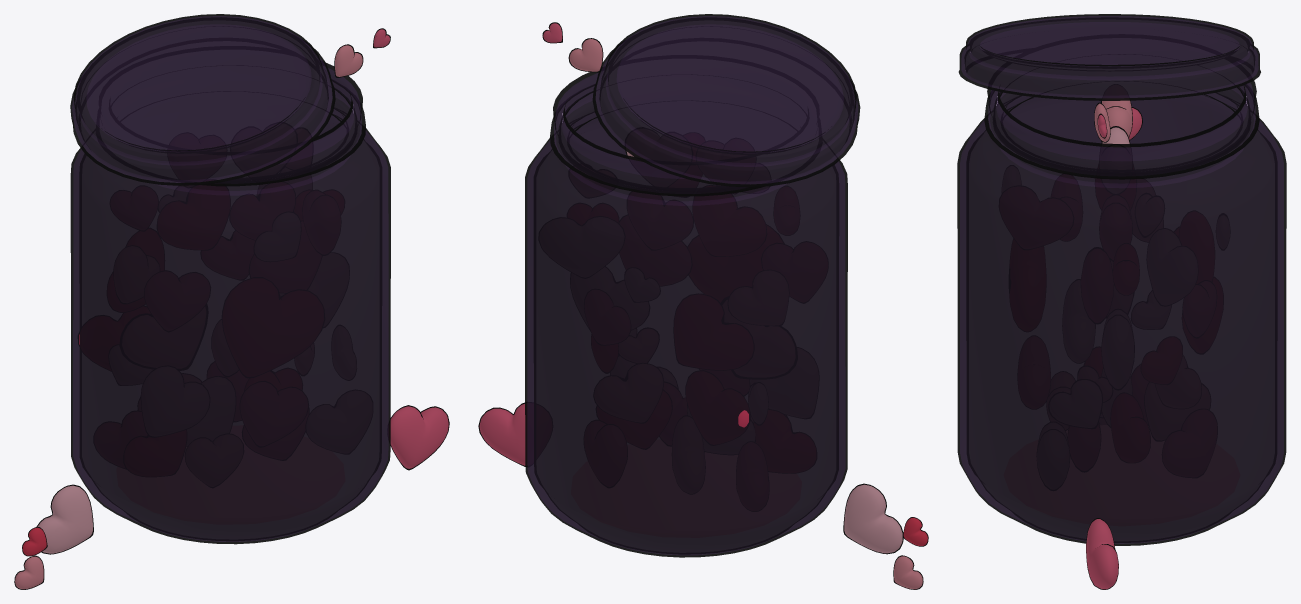
The model's file is jar_of_hearts.glb.
The picture shows the model from 3 angles, left to right: view 1: azimuth 30°, elevation 25°; view 2: azimuth 150°, elevation 25°; view 3: azimuth 270°, elevation 25°; orthographic projection. The views are drawn at different scales.
Visible parts, largest first — view 1: Object_7, Object_5, Object_3; view 2: Object_7, Object_5, Object_3; view 3: Object_7, Object_5.
Boxes of the visible parts, x1=… form: Object_7: x1=70, y1=14, x2=390, y2=544; Object_5: x1=15, y1=45, x2=448, y2=589; Object_3: x1=14, y1=44, x2=449, y2=589; Object_7: x1=525, y1=14, x2=860, y2=557; Object_5: x1=479, y1=39, x2=927, y2=589; Object_3: x1=478, y1=38, x2=928, y2=589; Object_7: x1=957, y1=14, x2=1286, y2=545; Object_5: x1=1086, y1=100, x2=1141, y2=589.
Size of the model in its own units: 3.65 by 3.86 by 2.32.
5 materials, 1 textured.
